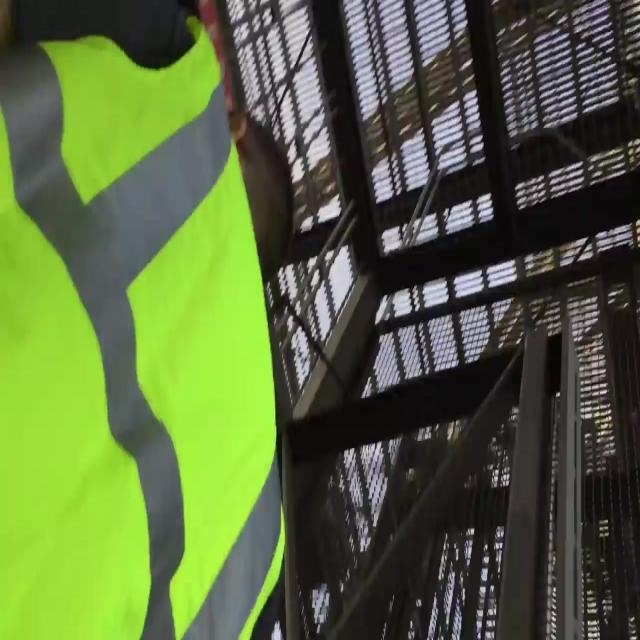Reflective-Jacket: (2, 18, 288, 640)
